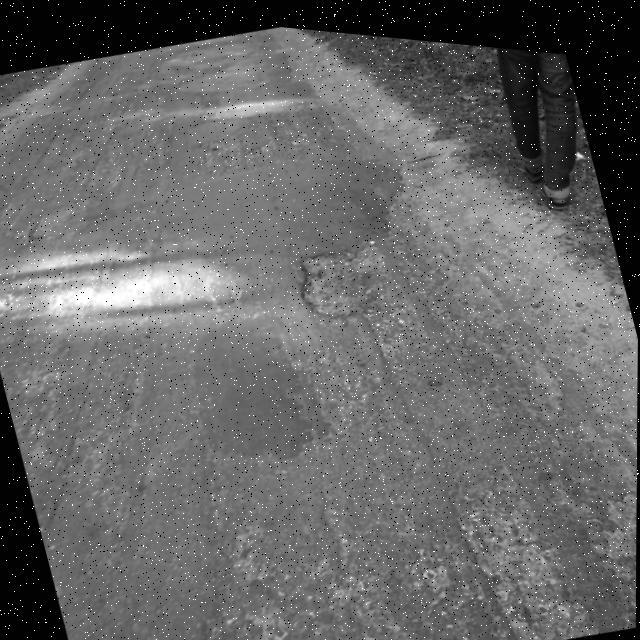pothole: (288, 224, 396, 324)
